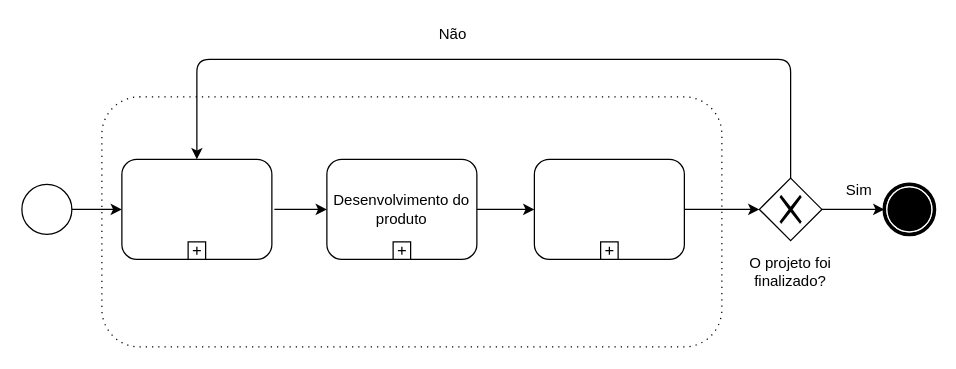
Image size: 956x369. Some labels were removed from this diagram. The centre of each missing label's shape, as x and y in pixels:
Sprint Planing: point (196, 208)
Sprint Review: point (608, 208)
